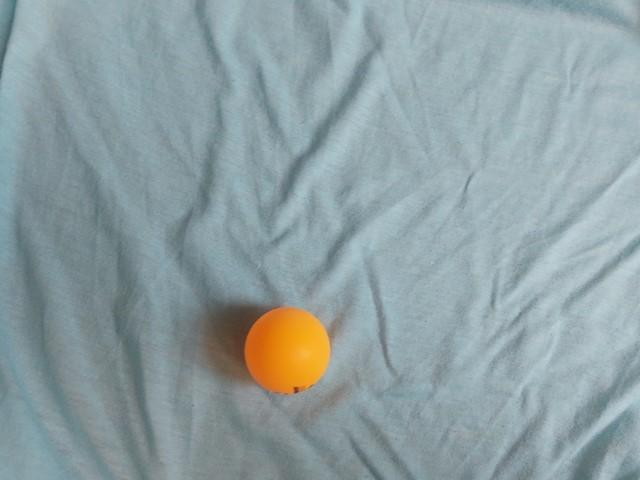oball: (237, 302, 335, 399)
